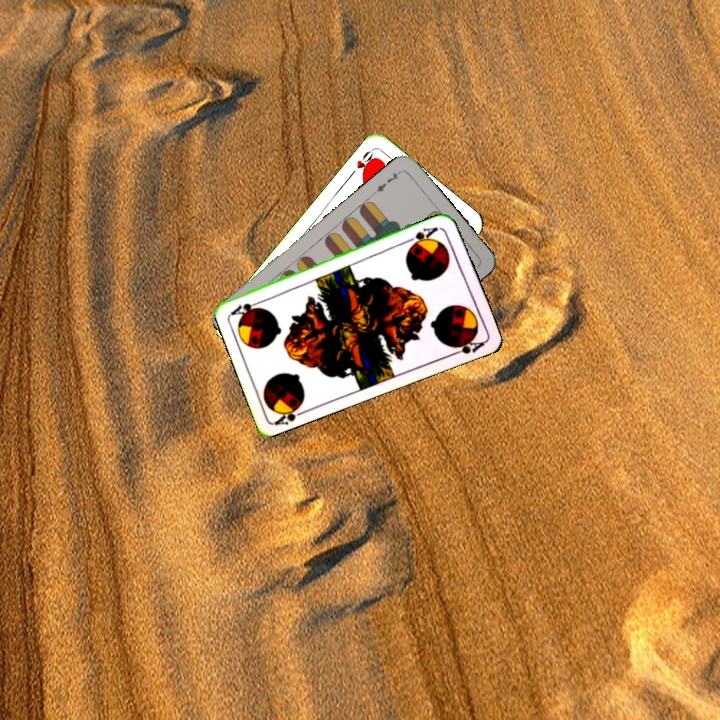E7: (370, 167, 404, 196)
HO: (346, 145, 378, 179)
SA: (271, 398, 310, 428), (404, 223, 443, 249)
